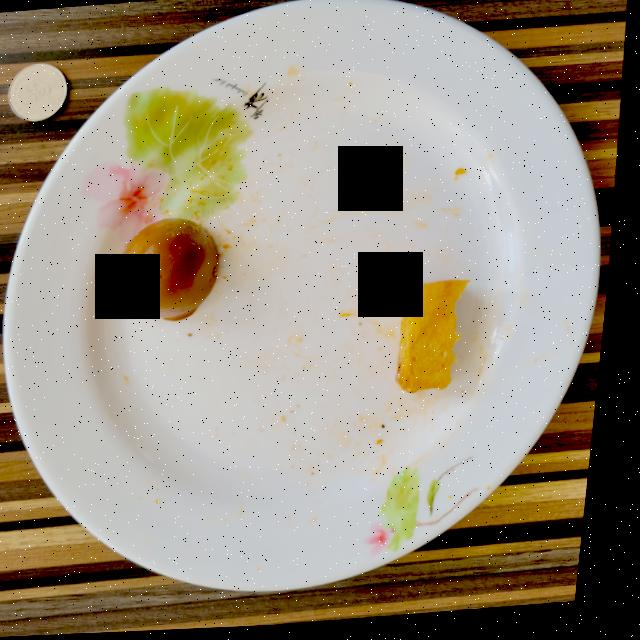coin: (10, 62, 69, 120)
creamy tofu: (404, 283, 475, 395)
soy egg: (126, 218, 224, 322)
